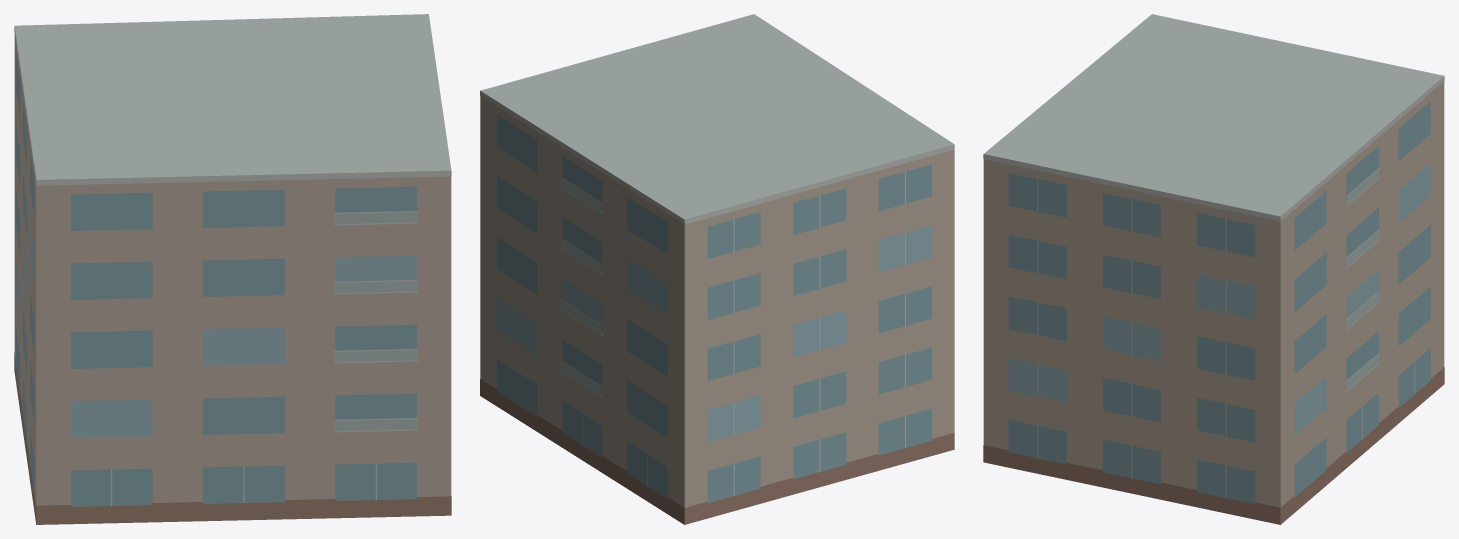
File: survey-upis-32886020.glb
The picture shows the model from 3 angles, left to right: view 1: azimuth 30°, elevation 25°; view 2: azimuth 150°, elevation 25°; view 3: azimuth 270°, elevation 25°; orthographic projection. The views are drawn at different scales.
Visible parts, largest first — view 1: survey-upis-32886020.tmp; view 2: survey-upis-32886020.tmp; view 3: survey-upis-32886020.tmp.
Boxes of the visible parts, <box> form: survey-upis-32886020.tmp: <box>14,14,451,524</box>; survey-upis-32886020.tmp: <box>480,14,954,524</box>; survey-upis-32886020.tmp: <box>983,14,1444,524</box>.
Size of the model in its own units: 20.58 by 14.6 by 19.79.
